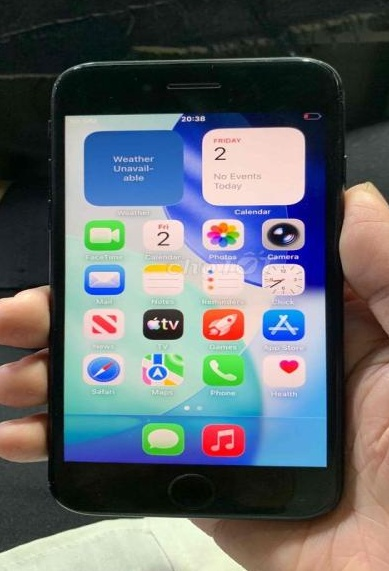scratch: (293, 55, 348, 105), (46, 59, 93, 93)
